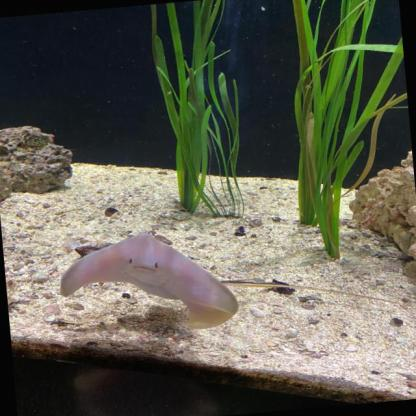stingray: (55, 226, 240, 340)
